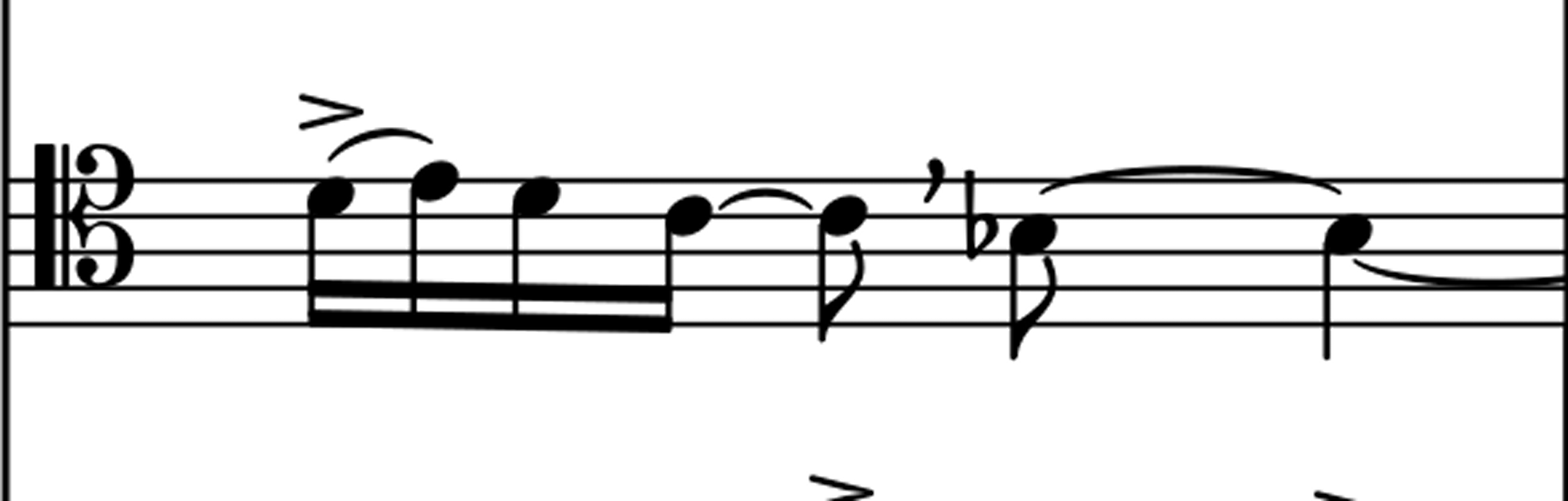accidentalFlat: (964, 171, 996, 259)
articAccentAbove: (299, 94, 362, 128), (810, 475, 873, 501), (1314, 491, 1353, 501)
caesura: (921, 158, 943, 201)
clefCTenor: (18, 127, 155, 306)
flag8thDown: (816, 239, 863, 341), (1011, 256, 1056, 359)
noteheadBlackInSpace: (1324, 214, 1370, 253), (1010, 214, 1055, 253), (514, 177, 559, 216), (308, 177, 353, 215)
noteheadBlackOnLine: (820, 195, 866, 234), (412, 160, 457, 199), (666, 195, 711, 234)
slur: (328, 129, 431, 160)
staff: (216, 184, 1391, 333)
tie: (1039, 167, 1342, 193), (1039, 174, 1341, 193), (1354, 258, 1566, 284), (719, 190, 811, 208)
